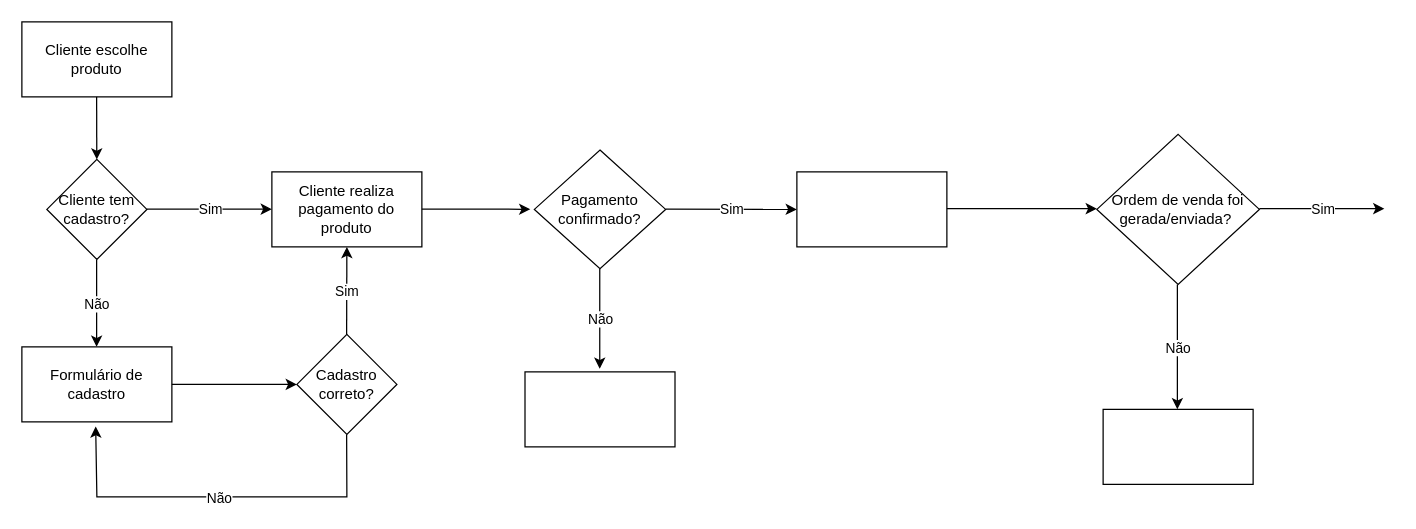
The diagram is 1416 pixels wide and 529 high, and some of its shapes have lost their labels. Each missing label, with the centre of its shape:
"Sistema confirma o pagamento, gera e envia a ordem de venda" belongs at [871,209].
"Sistema sinaliza para o cliente que o pagamento foi recusado" belongs at [599,409].
"Tenta gerar/enviar novamente a ordem de venda" belongs at [1177,446].
